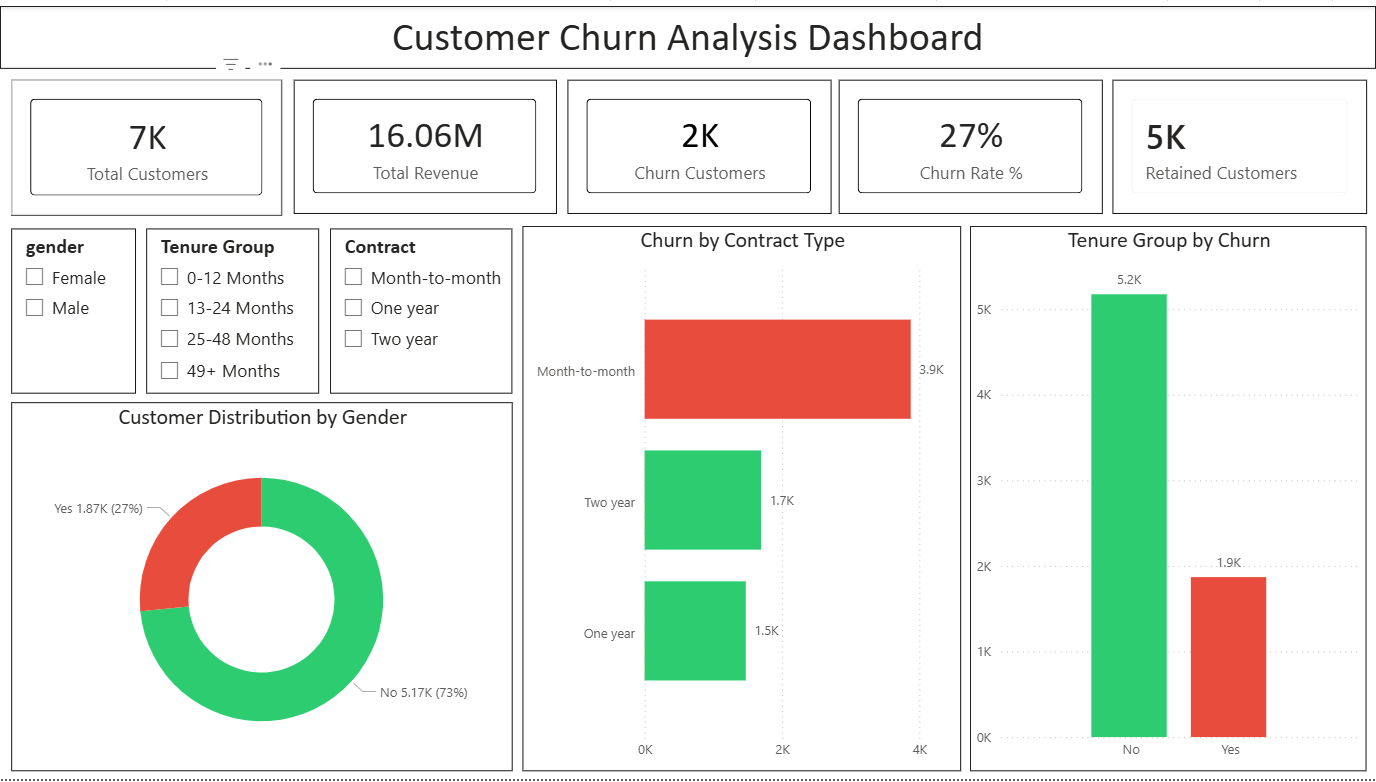

This screenshot's page, from the dashboard's own definition file:
{"tool":"powerbi","page":{"name":"Page 1","canvas":[1280,720],"ordinal":0},"visuals":[{"type":"textbox","box":[0,0,1280.4,48],"z":0},{"type":"textbox","box":[0,0,1280.2,58.1],"z":1000},{"type":"cardVisual","fields":{"Data":["Telco-Customer-Churn dataset.Total Customers"]},"box":[10,68.6,252.1,126],"z":2000},{"type":"cardVisual","fields":{"Data":["Telco-Customer-Churn dataset.Total Charges"]},"box":[273.3,68.6,244.6,124.8],"z":3000},{"type":"cardVisual","fields":{"Data":["Telco-Customer-Churn dataset.Churn Customers"]},"box":[527.8,68.6,245.8,124.8],"z":4000},{"type":"cardVisual","fields":{"Data":["Telco-Customer-Churn dataset.Churn Rate %"]},"box":[779.9,68.6,245.8,124.8],"z":5000},{"type":"donutChart","title":"Customer Distribution  by Gender","fields":{"Y":["CountNonNull(Telco-Customer-Churn dataset.gender)"],"Category":["Telco-Customer-Churn dataset.Churn"]},"box":[10.5,368.6,466.3,343],"z":6000},{"type":"barChart","title":"Churn by Contract Type","fields":{"Category":["Telco-Customer-Churn dataset.Contract"],"Y":["CountNonNull(Telco-Customer-Churn dataset.Churn)"]},"box":[486,204.7,408.1,507],"z":7000},{"type":"columnChart","title":"Tenure Group by Churn","fields":{"Category":["Telco-Customer-Churn dataset.Churn"],"Y":["CountNonNull(Telco-Customer-Churn dataset.Tenure Group)"]},"box":[902.7,204.9,369.2,506.8],"z":8000},{"type":"slicer","fields":{"Values":["Telco-Customer-Churn dataset.Contract"]},"box":[307,207,169.8,153.5],"z":9000},{"type":"slicer","fields":{"Values":["Telco-Customer-Churn dataset.Tenure Group"]},"box":[136,207,160.5,153.5],"z":10000},{"type":"cardVisual","fields":{"Data":["Telco-Customer-Churn dataset.Retained Customers"]},"box":[1034.4,68.6,237.1,124.8],"z":11000},{"type":"slicer","fields":{"Values":["Telco-Customer-Churn dataset.gender"]},"box":[10.5,207,116.3,153.5],"z":12000}]}

Visuals, with their boxes in screenshot pixels (x1, y1, x2, y2), scaled from the page's 1280x720 canvas onto the 1376x782 screenshot:
textbox: {"x1": 0, "y1": 0, "x2": 1375, "y2": 52}
textbox: {"x1": 0, "y1": 0, "x2": 1375, "y2": 63}
cardVisual - Telco-Customer-Churn dataset.Total Customers: {"x1": 11, "y1": 75, "x2": 282, "y2": 211}
cardVisual - Telco-Customer-Churn dataset.Total Charges: {"x1": 294, "y1": 75, "x2": 557, "y2": 210}
cardVisual - Telco-Customer-Churn dataset.Churn Customers: {"x1": 567, "y1": 75, "x2": 832, "y2": 210}
cardVisual - Telco-Customer-Churn dataset.Churn Rate %: {"x1": 838, "y1": 75, "x2": 1103, "y2": 210}
"Customer Distribution  by Gender" donutChart: {"x1": 11, "y1": 400, "x2": 513, "y2": 773}
"Churn by Contract Type" barChart: {"x1": 522, "y1": 222, "x2": 961, "y2": 773}
"Tenure Group by Churn" columnChart: {"x1": 970, "y1": 223, "x2": 1367, "y2": 773}
slicer - Telco-Customer-Churn dataset.Contract: {"x1": 330, "y1": 225, "x2": 513, "y2": 392}
slicer - Telco-Customer-Churn dataset.Tenure Group: {"x1": 146, "y1": 225, "x2": 319, "y2": 392}
cardVisual - Telco-Customer-Churn dataset.Retained Customers: {"x1": 1112, "y1": 75, "x2": 1367, "y2": 210}
slicer - Telco-Customer-Churn dataset.gender: {"x1": 11, "y1": 225, "x2": 136, "y2": 392}
